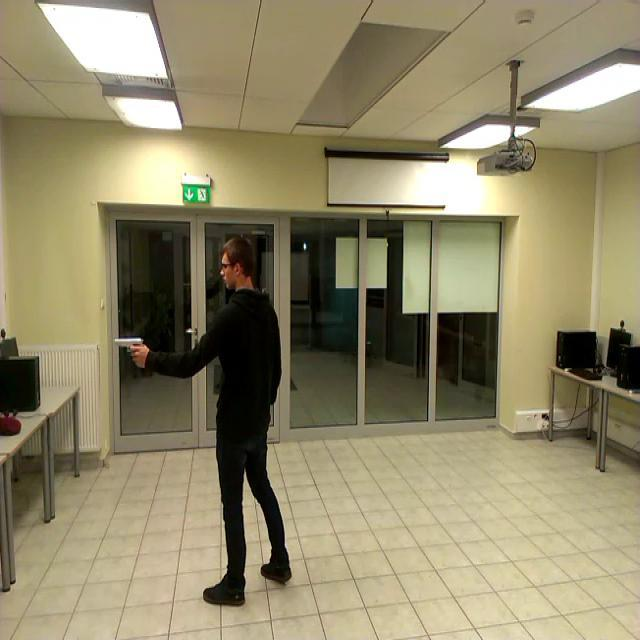Gun: (115, 336, 145, 362)
